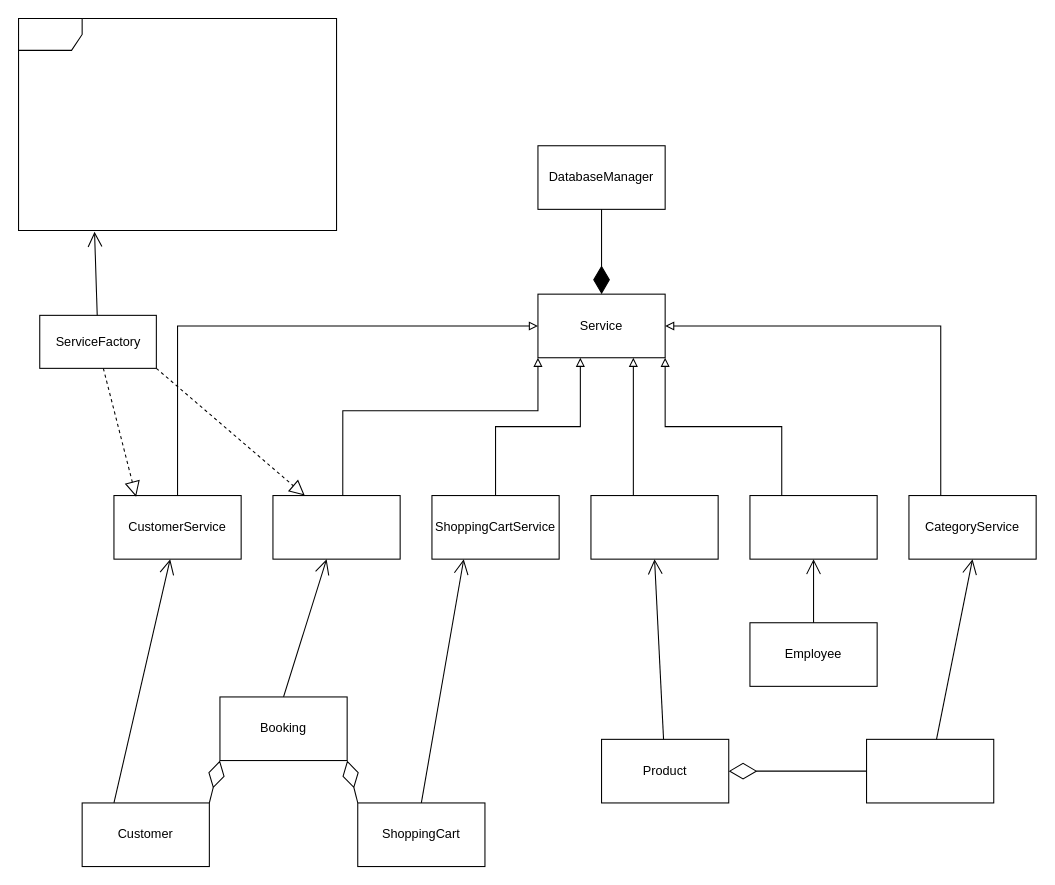
The diagram is 1055 pixels wide and 885 high, and some of its shapes have lost their labels. Here are the shapes that lost their labels. From the top down, the centre of each, then its label:
the point at 177,124: Main
the point at 336,526: BookingService
the point at 654,526: ProductService
the point at 813,526: EmployeeService
the point at 929,770: Category
